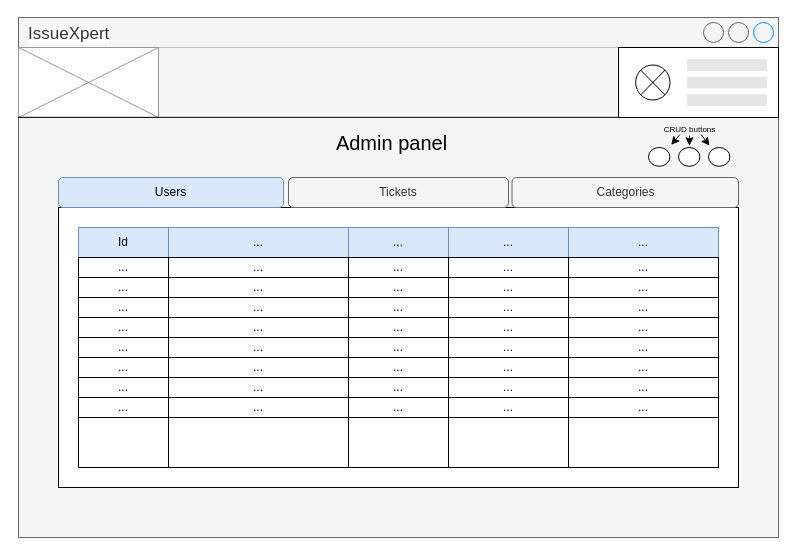
The diagram is 797 pixels wide and 555 high, and some of its shapes have lost their labels. The centre of each missing label's shape, as x and y in pixels:
Avatar: the point at 652,82
Logo: the point at 88,82
